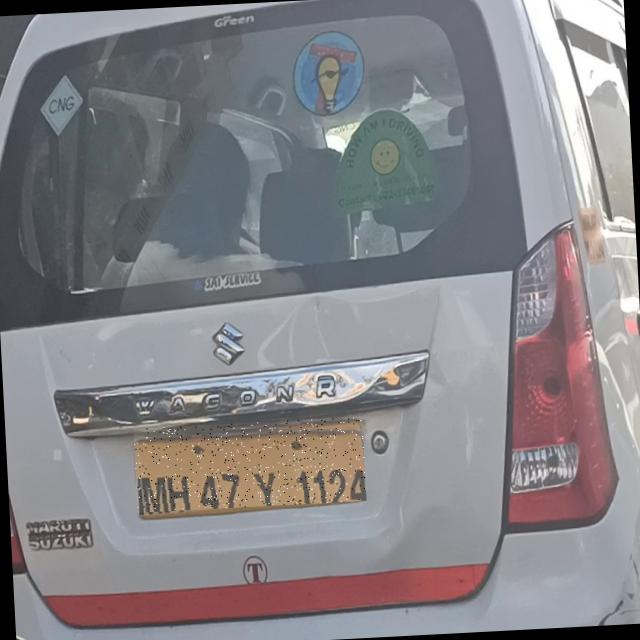Plate: (135, 418, 368, 514)
